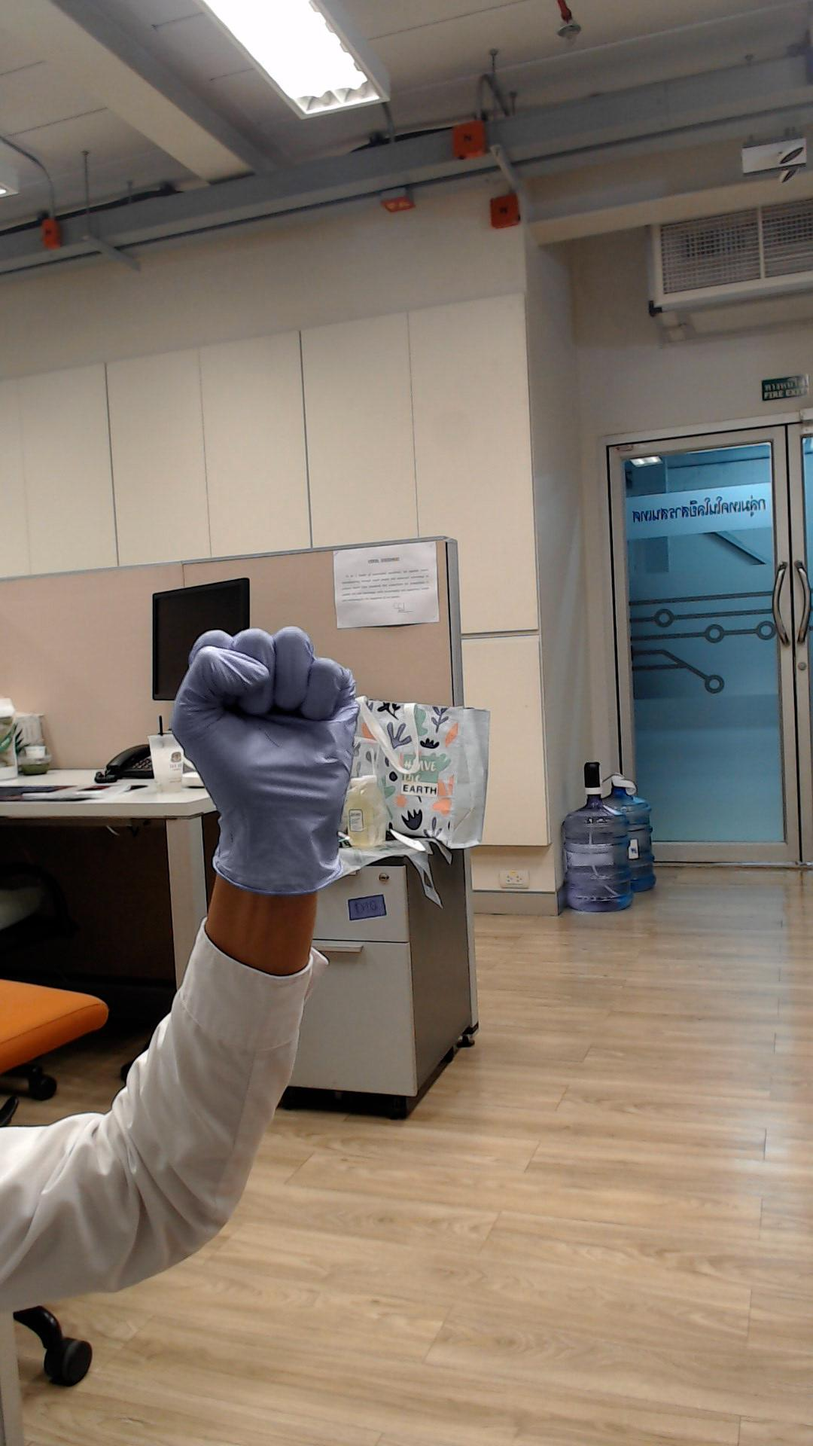gloves: (159, 591, 388, 881)
